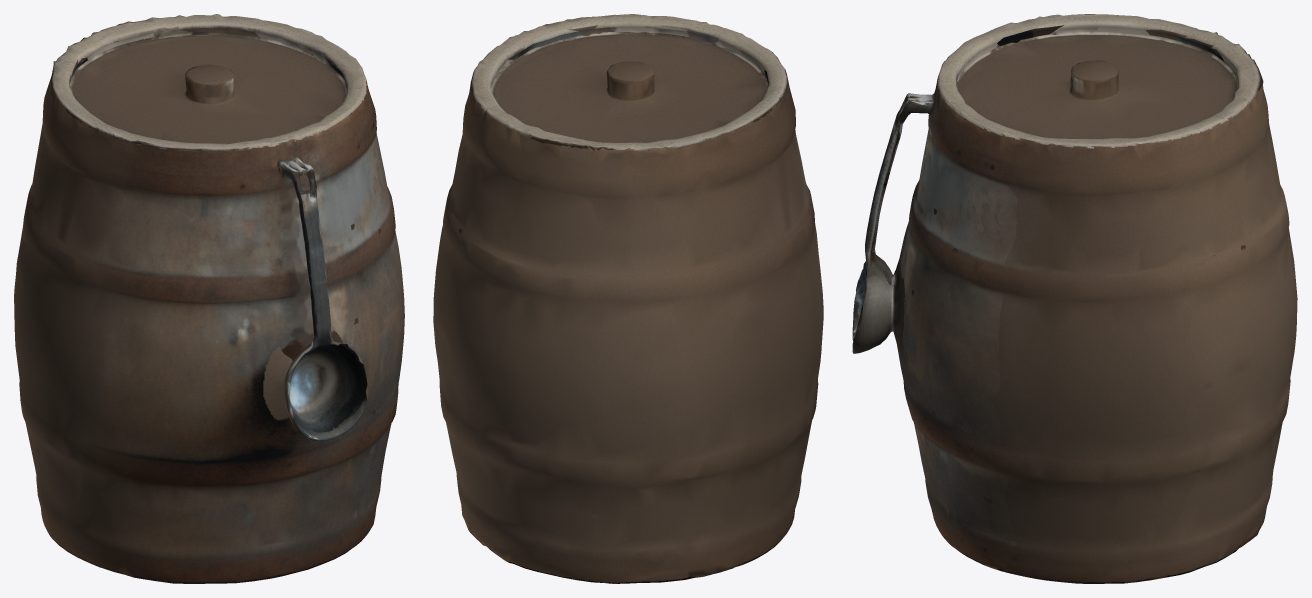
File: barril.glb
3 renders of one model, left to right at view 1: azimuth 30°, elevation 25°; view 2: azimuth 150°, elevation 25°; view 3: azimuth 270°, elevation 25°, orthographic.
Visible parts, largest first — view 1: temp_mesh.ply; view 2: temp_mesh.ply; view 3: temp_mesh.ply.
Part boxes in pixels (x1,y1,x2,y2): temp_mesh.ply: (14, 14, 404, 583); temp_mesh.ply: (433, 14, 823, 583); temp_mesh.ply: (852, 14, 1297, 583).
Bounding box in the file's own units: 0.7546 × 0.95 × 0.8618.
1 material, 1 textured.
